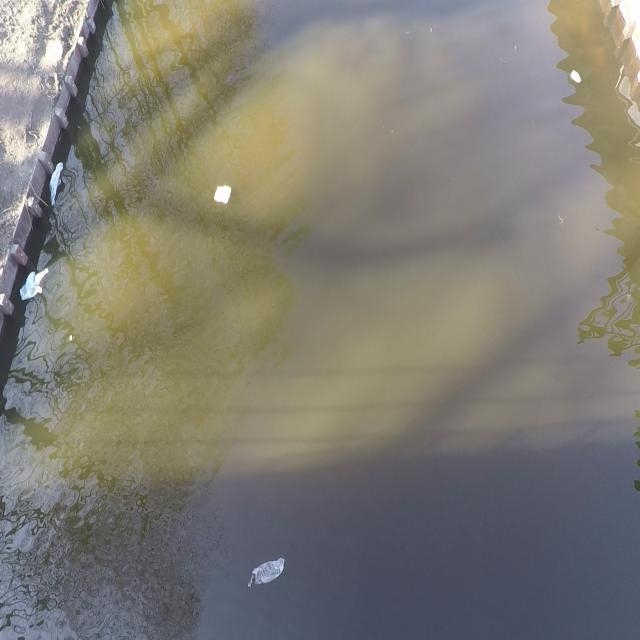Sac plastique: (247, 552, 292, 593), (16, 266, 52, 307), (48, 159, 66, 210)
